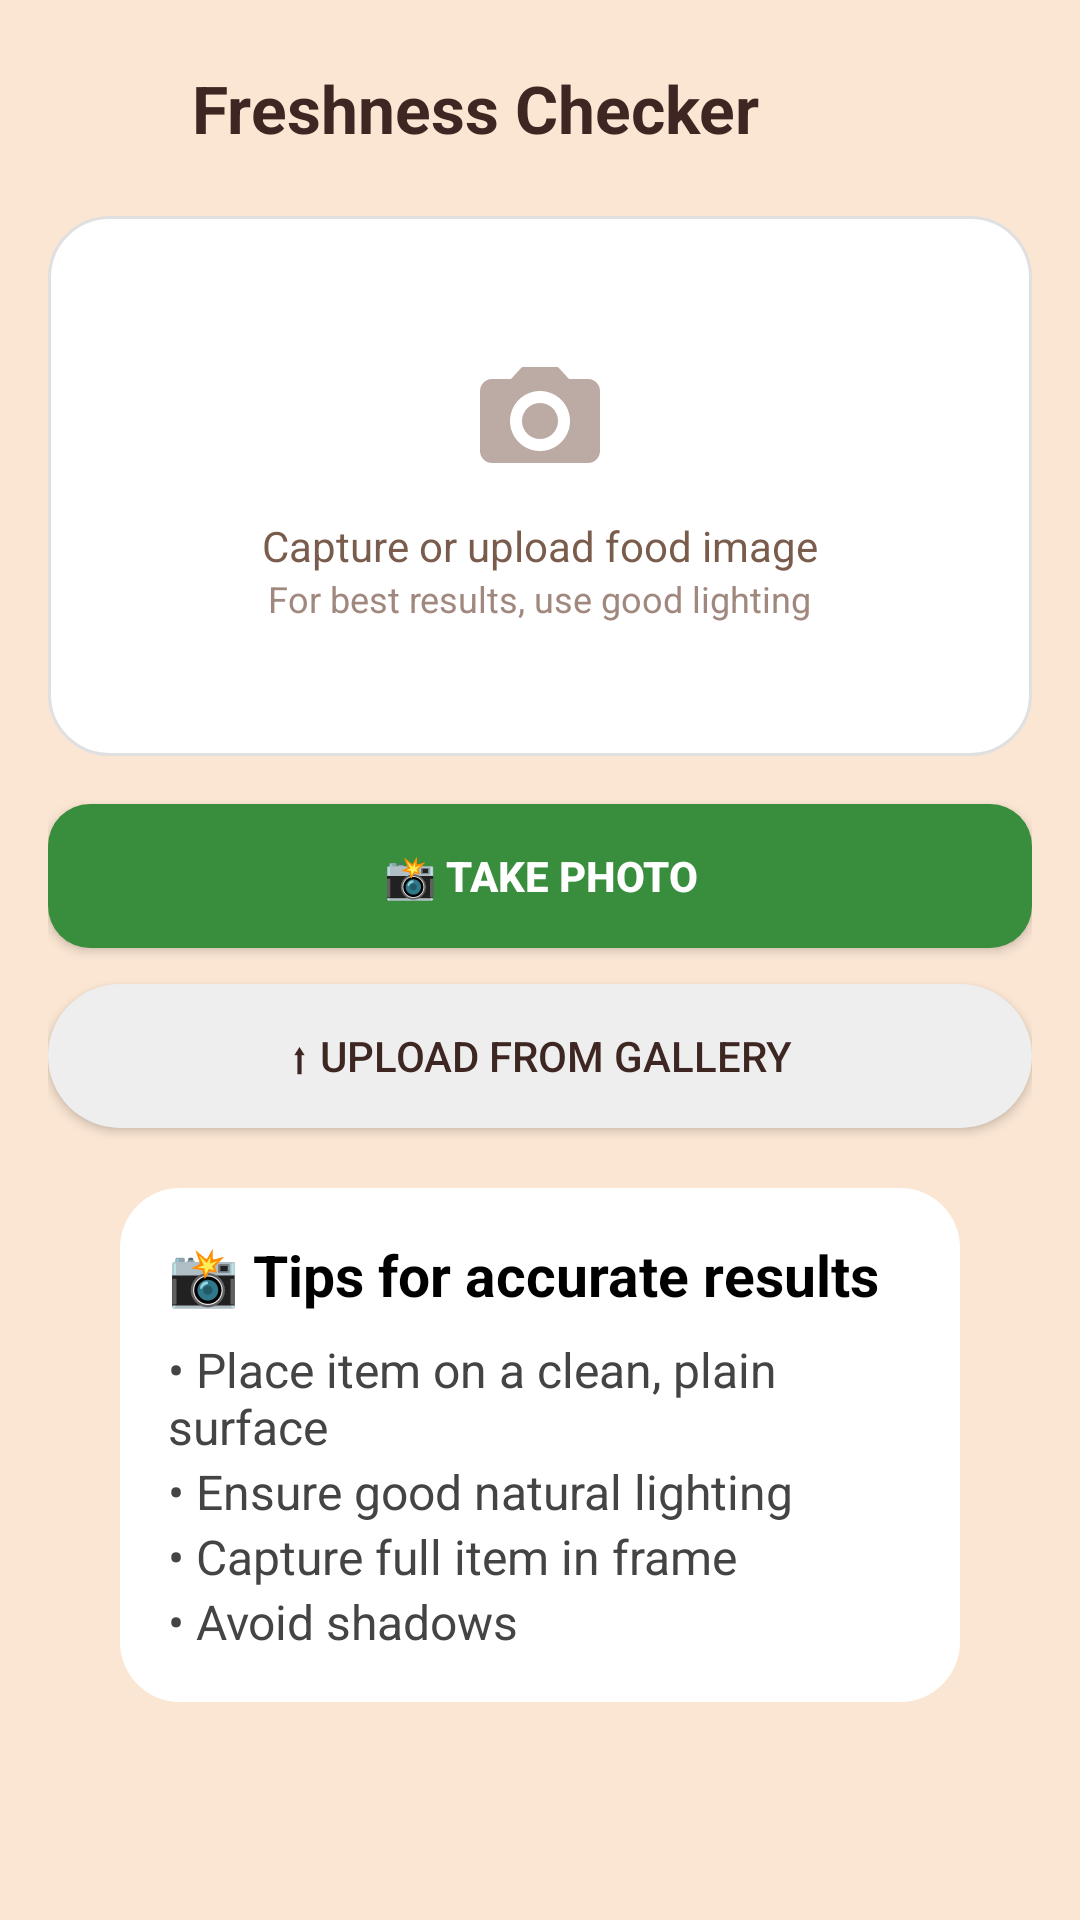

Icon click points for this 1080 x 1920 phone screenshot, format point (x, y):
Camera Icon: point (540, 415)
